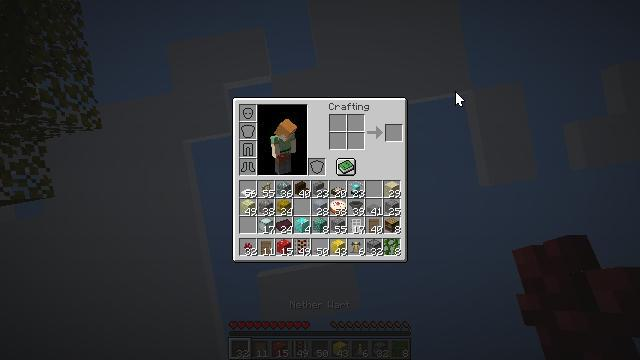cursor: (455, 91, 465, 107)
